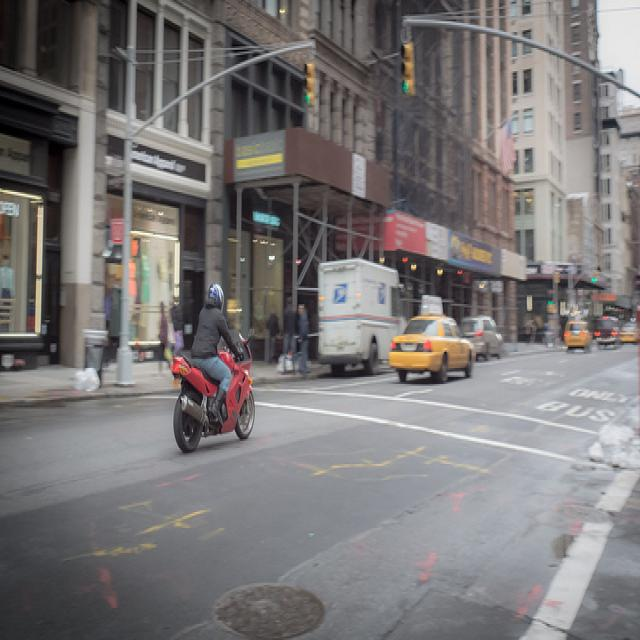motor: (174, 338, 257, 450)
